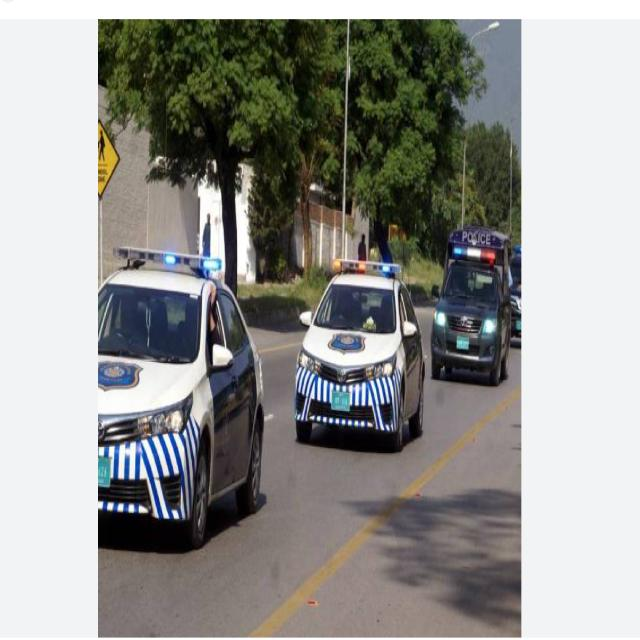police: (103, 244, 263, 548), (302, 240, 438, 504), (431, 204, 500, 386)
